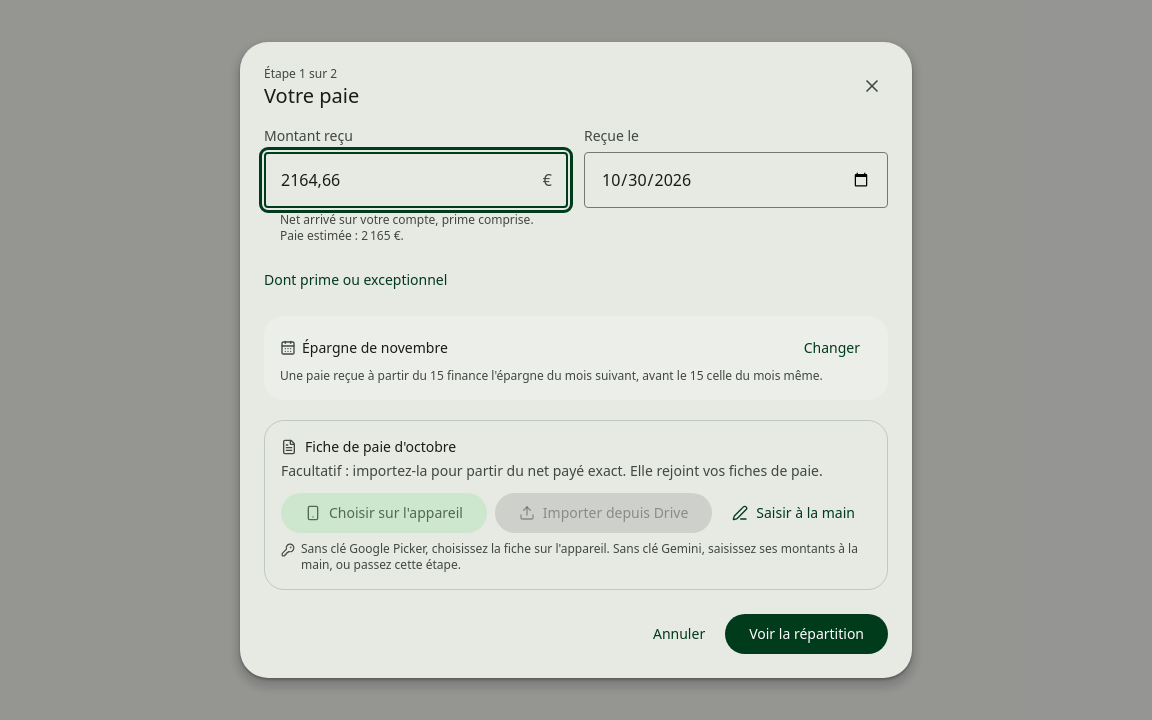
Test: Rituel : répartition et enregistrement › refus de la commande : affiché dans la feuille, qui reste ouverte
The image size is (1152, 720).
Click the button "Voir la répartition" at [807, 634], box [725,614,888,654]
(page scrolled)
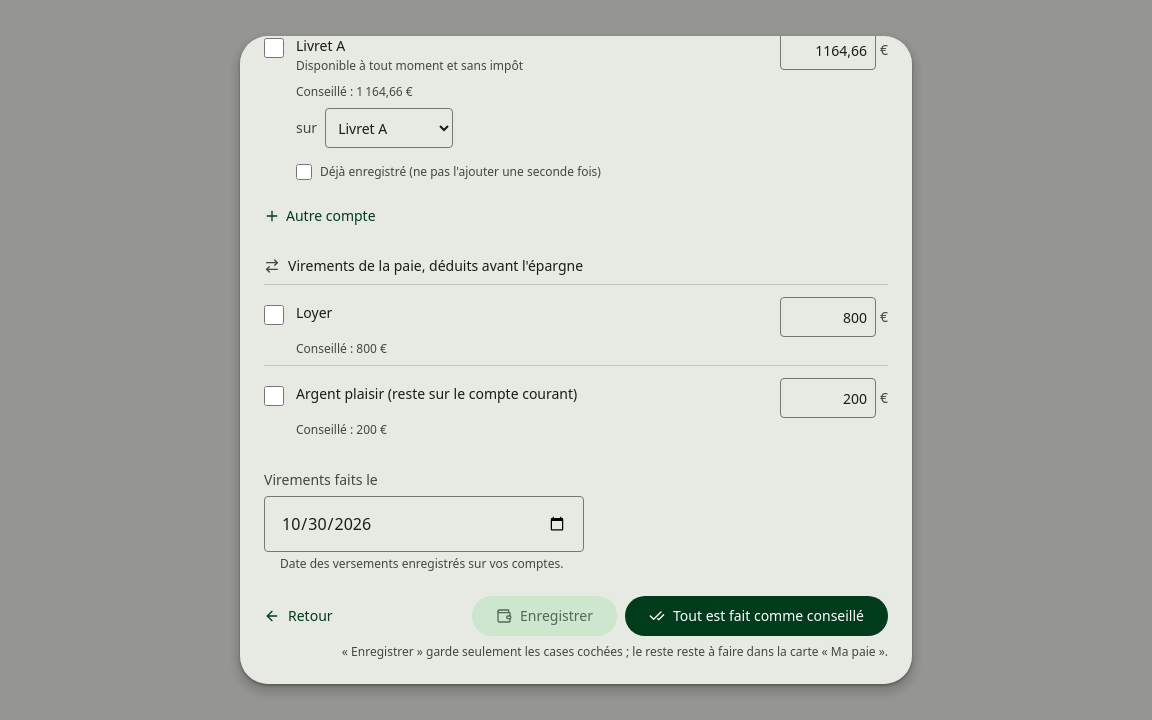
Click the button "Tout est fait comme conseillé" at [756, 616], box [625,596,888,636]
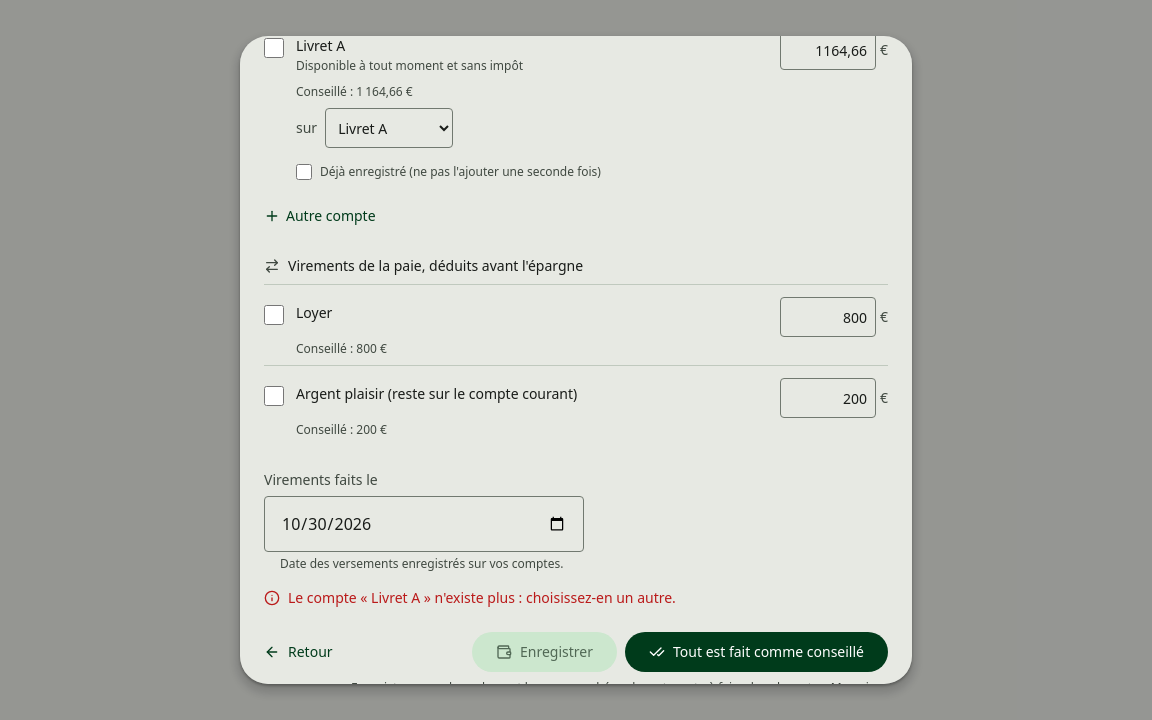
Check: the message shows "n'existe plus", box [288,588,676,607]
